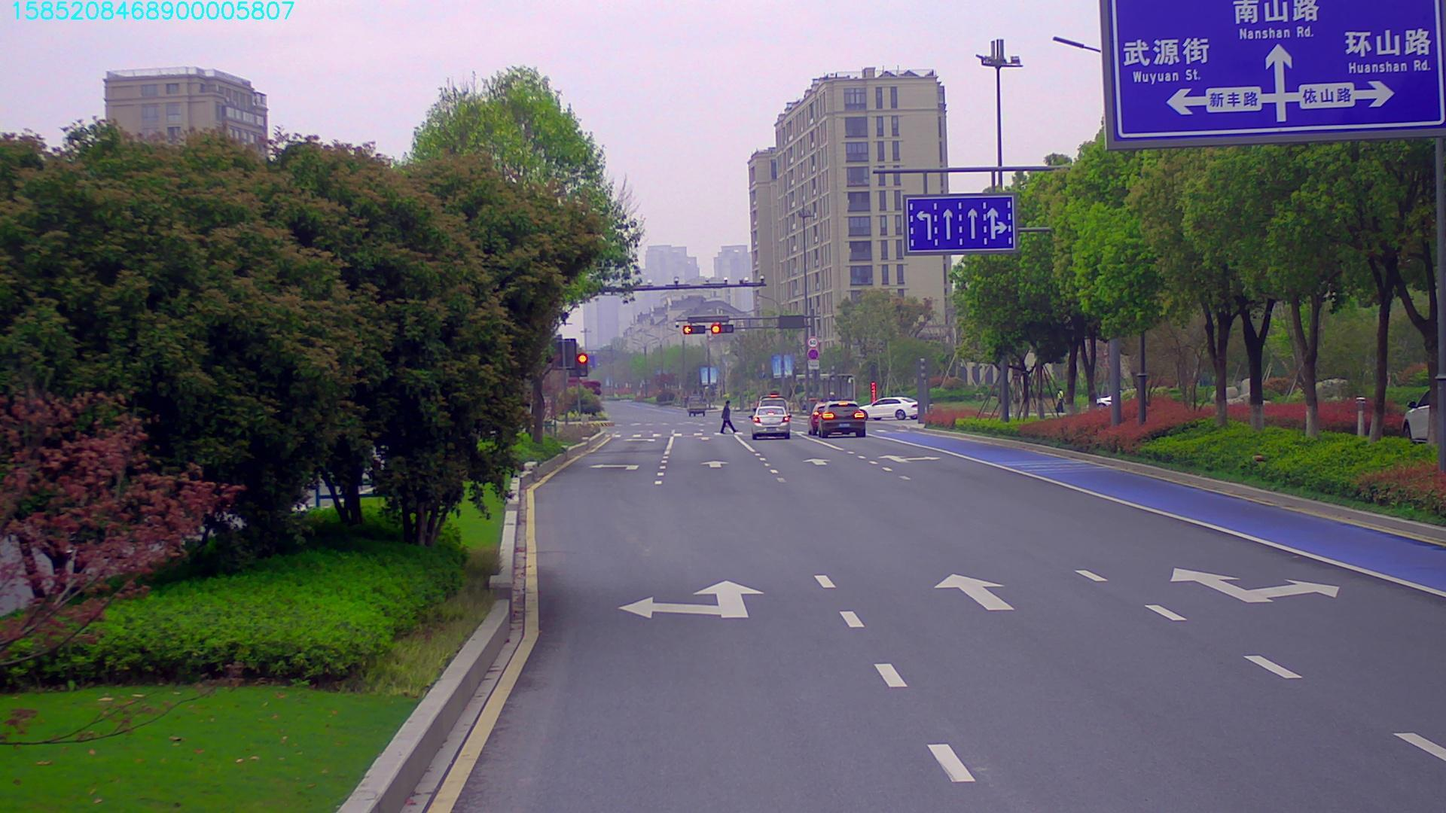red: (682, 321, 707, 336), (713, 321, 734, 333)
